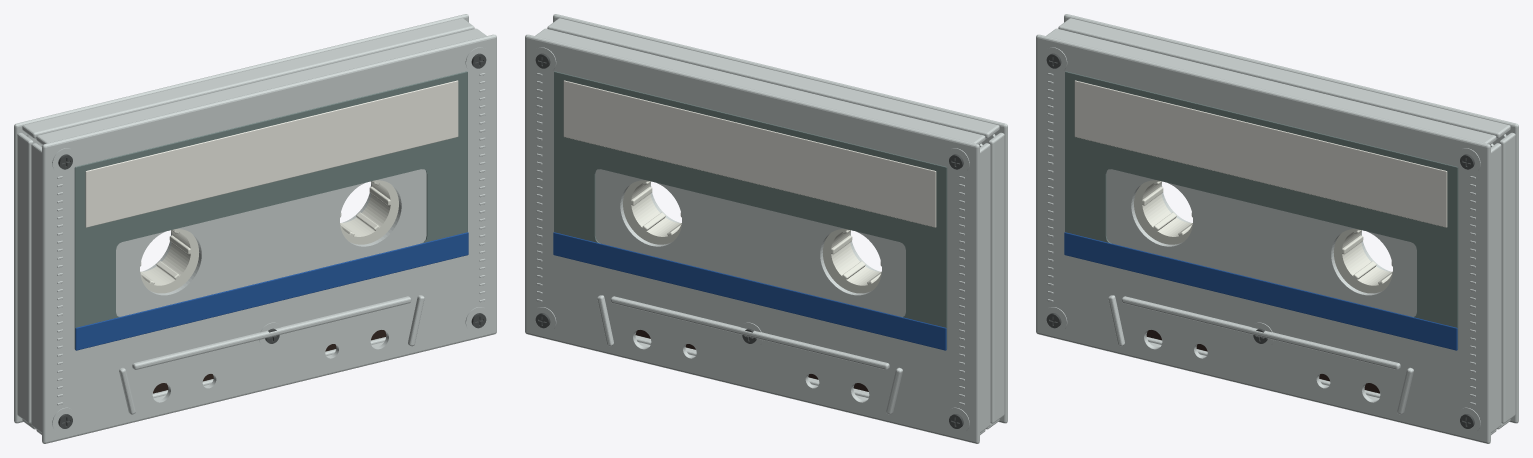
Rendered from cassette.glb.
The picture shows the model from 3 angles, left to right: view 1: azimuth 30°, elevation 25°; view 2: azimuth 150°, elevation 25°; view 3: azimuth 330°, elevation 25°; orthographic projection.
Parts seen in each view (by area): view 1: Front shell, White title sticker, Label surround, Blue footer, Edge seam wall.003, Edge seam wall.001, Side seam wall.002, Rear shell, Side seam wall, Transport upper lip, Open reel hub, Open reel hub.001; view 2: Rear shell, White title sticker.001, Label surround.001, Blue footer.001, Edge seam wall.001, Edge seam wall.003, Side seam wall, Front shell, Side seam wall.002, Transport upper lip.001, Open reel hub, Open reel hub.001; view 3: Front shell, White title sticker, Label surround, Blue footer, Edge seam wall.003, Edge seam wall.001, Side seam wall.003, Rear shell, Side seam wall.001, Transport upper lip, Open reel hub.001, Open reel hub.
Part boxes in pixels (x1=…): Front shell: x1=42, y1=34, x2=496, y2=443; White title sticker: x1=85, y1=80, x2=458, y2=227; Label surround: x1=74, y1=71, x2=467, y2=349; Blue footer: x1=75, y1=232, x2=468, y2=350; Edge seam wall.003: x1=22, y1=18, x2=474, y2=138; Edge seam wall.001: x1=36, y1=28, x2=486, y2=144; Side seam wall.002: x1=17, y1=132, x2=33, y2=423; Rear shell: x1=14, y1=14, x2=468, y2=423; Side seam wall: x1=31, y1=143, x2=41, y2=432; Transport upper lip: x1=132, y1=296, x2=411, y2=369; Open reel hub: x1=140, y1=229, x2=199, y2=293; Open reel hub.001: x1=340, y1=180, x2=398, y2=244; Rear shell: x1=525, y1=34, x2=979, y2=443; White title sticker.001: x1=563, y1=80, x2=936, y2=227; Label surround.001: x1=554, y1=71, x2=947, y2=349; Blue footer.001: x1=553, y1=232, x2=946, y2=350; Edge seam wall.001: x1=547, y1=18, x2=999, y2=138; Edge seam wall.003: x1=535, y1=28, x2=985, y2=144; Side seam wall: x1=988, y1=132, x2=1004, y2=423; Front shell: x1=553, y1=14, x2=1007, y2=423; Side seam wall.002: x1=980, y1=143, x2=990, y2=432; Transport upper lip.001: x1=610, y1=296, x2=889, y2=369; Open reel hub: x1=822, y1=229, x2=881, y2=293; Open reel hub.001: x1=623, y1=180, x2=681, y2=244; Front shell: x1=1036, y1=34, x2=1490, y2=443; White title sticker: x1=1074, y1=80, x2=1447, y2=227; Label surround: x1=1065, y1=71, x2=1458, y2=349; Blue footer: x1=1064, y1=232, x2=1457, y2=350; Edge seam wall.003: x1=1058, y1=18, x2=1510, y2=138; Edge seam wall.001: x1=1046, y1=28, x2=1496, y2=144; Side seam wall.003: x1=1499, y1=132, x2=1515, y2=423; Rear shell: x1=1064, y1=14, x2=1518, y2=423; Side seam wall.001: x1=1491, y1=143, x2=1501, y2=432; Transport upper lip: x1=1121, y1=296, x2=1400, y2=369; Open reel hub.001: x1=1333, y1=229, x2=1392, y2=293; Open reel hub: x1=1134, y1=180, x2=1192, y2=244.
Bounding box in the file's own units: 10 × 6.3 × 1.37.
